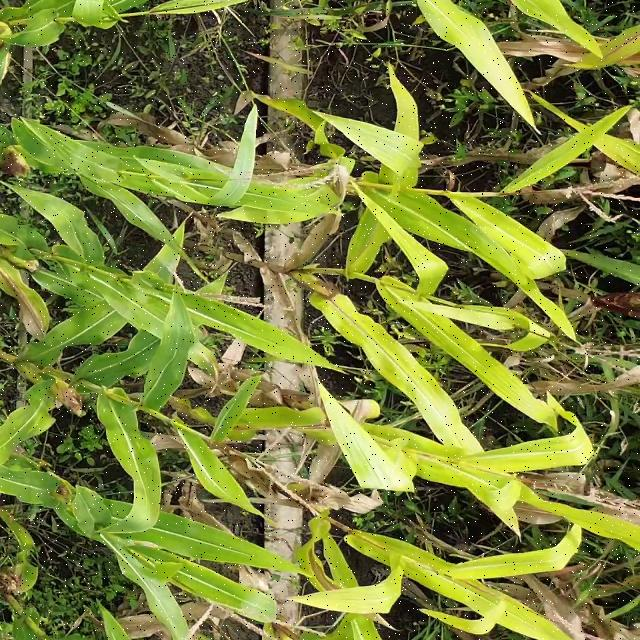northern-leaf-blight: (188, 404, 378, 448), (298, 539, 376, 628)
southern-leaf-blight: (94, 399, 164, 467)
